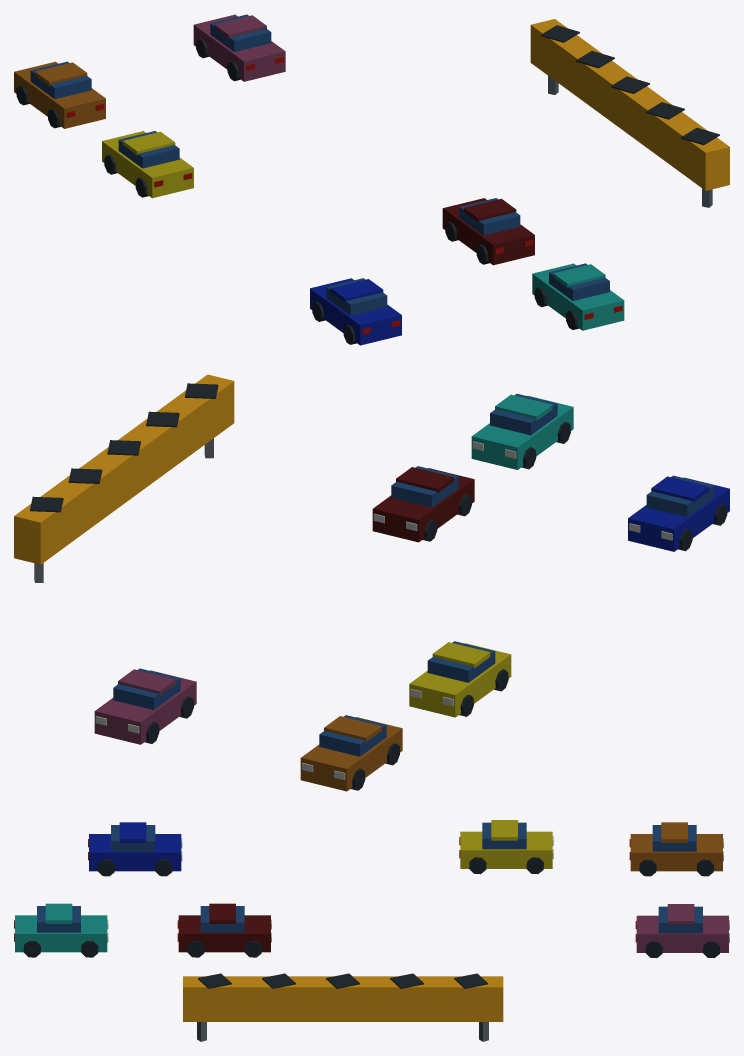
Rendered from cars_3b.glb.
3 renders of one model, top to bottom at view 1: azimuth 30°, elevation 25°; view 2: azimuth 150°, elevation 25°; view 3: azimuth 270°, elevation 25°, orthographic. The views are drawn at different scales.
Visible parts, largest first — view 1: cars_3b; view 2: cars_3b; view 3: cars_3b.
Boxes of the visible parts, x1=… form: cars_3b: x1=14, y1=14, x2=729, y2=345; cars_3b: x1=14, y1=374, x2=729, y2=791; cars_3b: x1=14, y1=820, x2=729, y2=1041.
Size of the model in its own units: 35.67 by 5.1 by 55.87.
